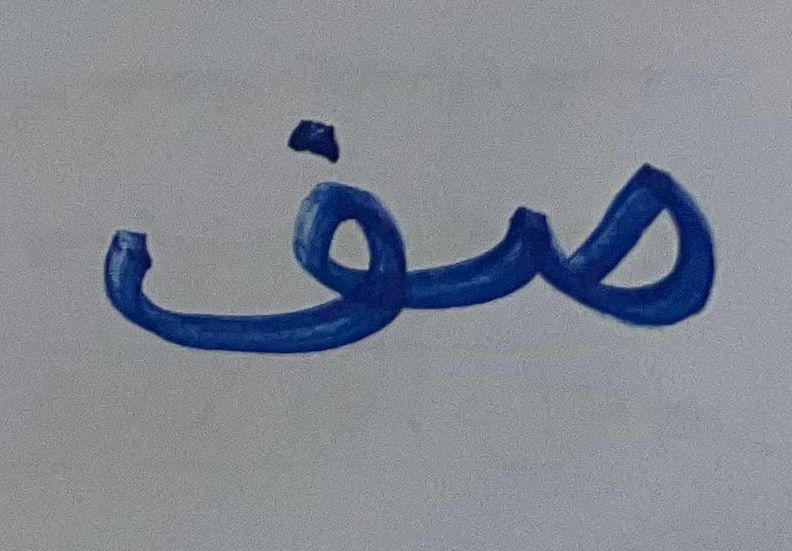feh: (82, 90, 443, 377)
sad: (453, 122, 734, 360)
